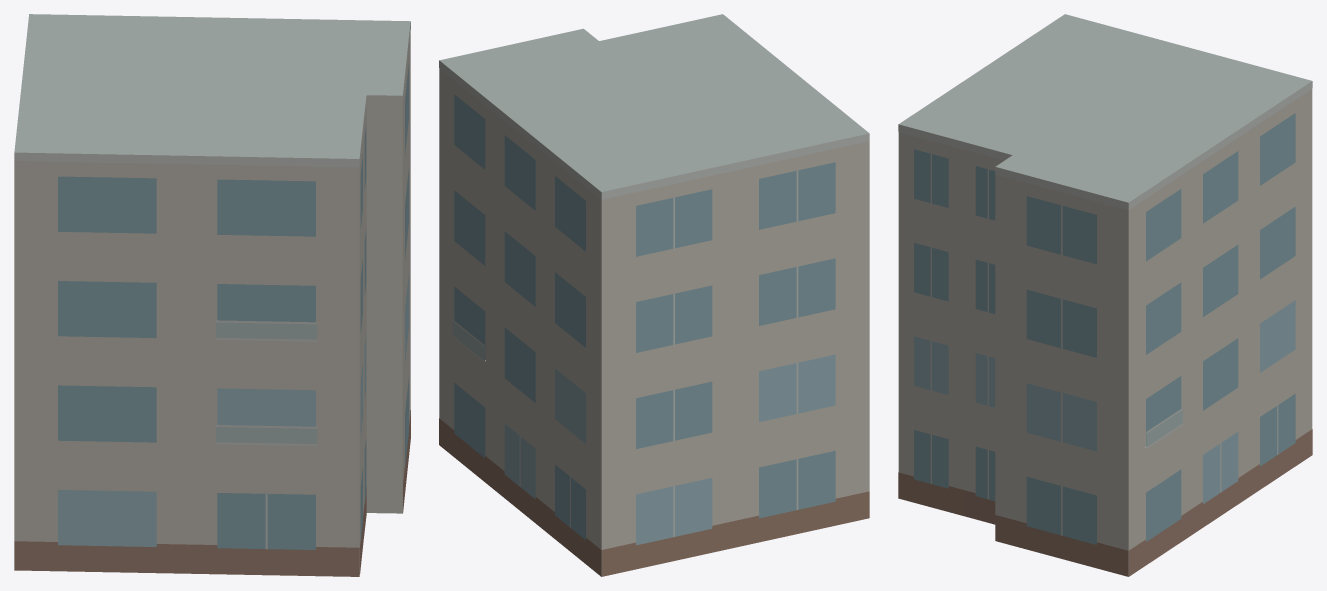
File: residential-6570e0fc-f0fa-404b-9fb7-6491029019b5.glb
3 views of the same model, side by side, from view 1: azimuth 30°, elevation 25°; view 2: azimuth 150°, elevation 25°; view 3: azimuth 270°, elevation 25° (orthographic). The views are drawn at different scales.
Parts seen in each view (by area): view 1: residential-6570e0fc-f0fa-404b-9fb7-6491029019b5.tmp; view 2: residential-6570e0fc-f0fa-404b-9fb7-6491029019b5.tmp; view 3: residential-6570e0fc-f0fa-404b-9fb7-6491029019b5.tmp.
Part boxes in pixels (box(x1,y1,x2,y2)): residential-6570e0fc-f0fa-404b-9fb7-6491029019b5.tmp: box(14, 14, 410, 576); residential-6570e0fc-f0fa-404b-9fb7-6491029019b5.tmp: box(439, 14, 869, 576); residential-6570e0fc-f0fa-404b-9fb7-6491029019b5.tmp: box(898, 14, 1312, 576).
Size of the model in its own units: 13.21 by 12.2 by 12.24.
